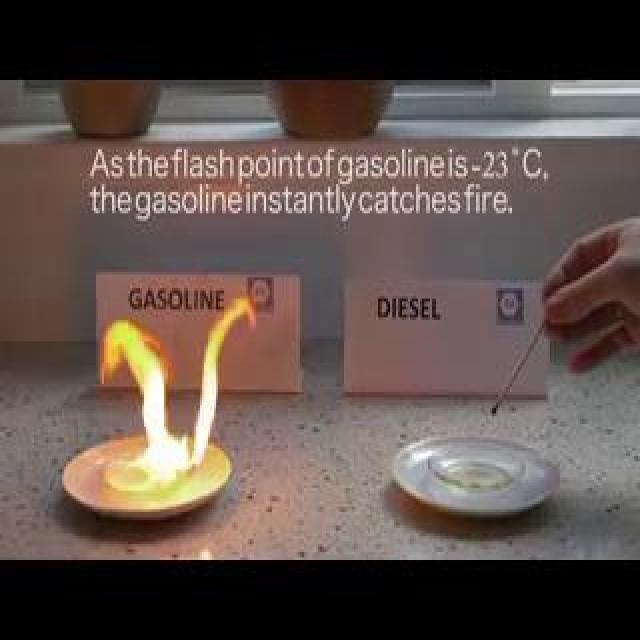Fire: (123, 284, 237, 481)
